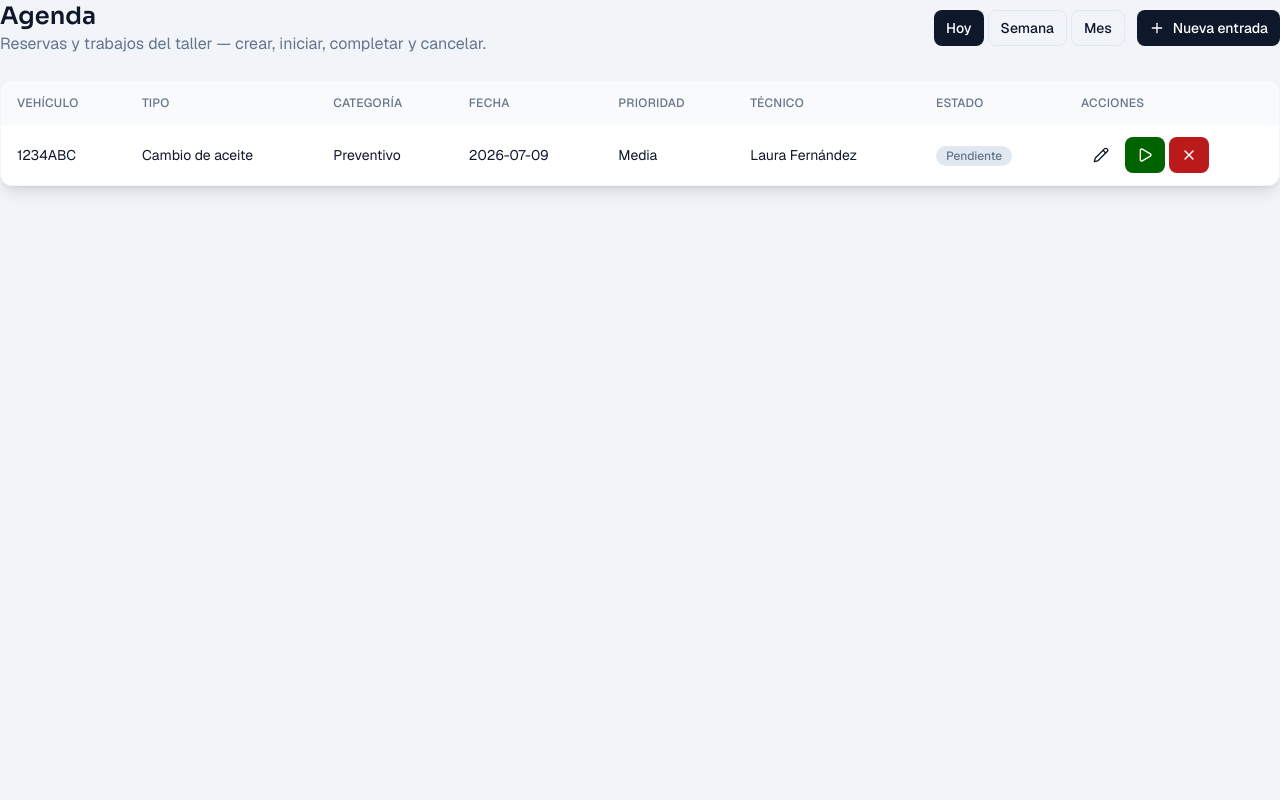
Test: Workshop (Agenda) › does not show the category selector in edit mode
Click the button named "editar entrada": (1101, 155) x1=1081 y1=137 x2=1121 y2=173
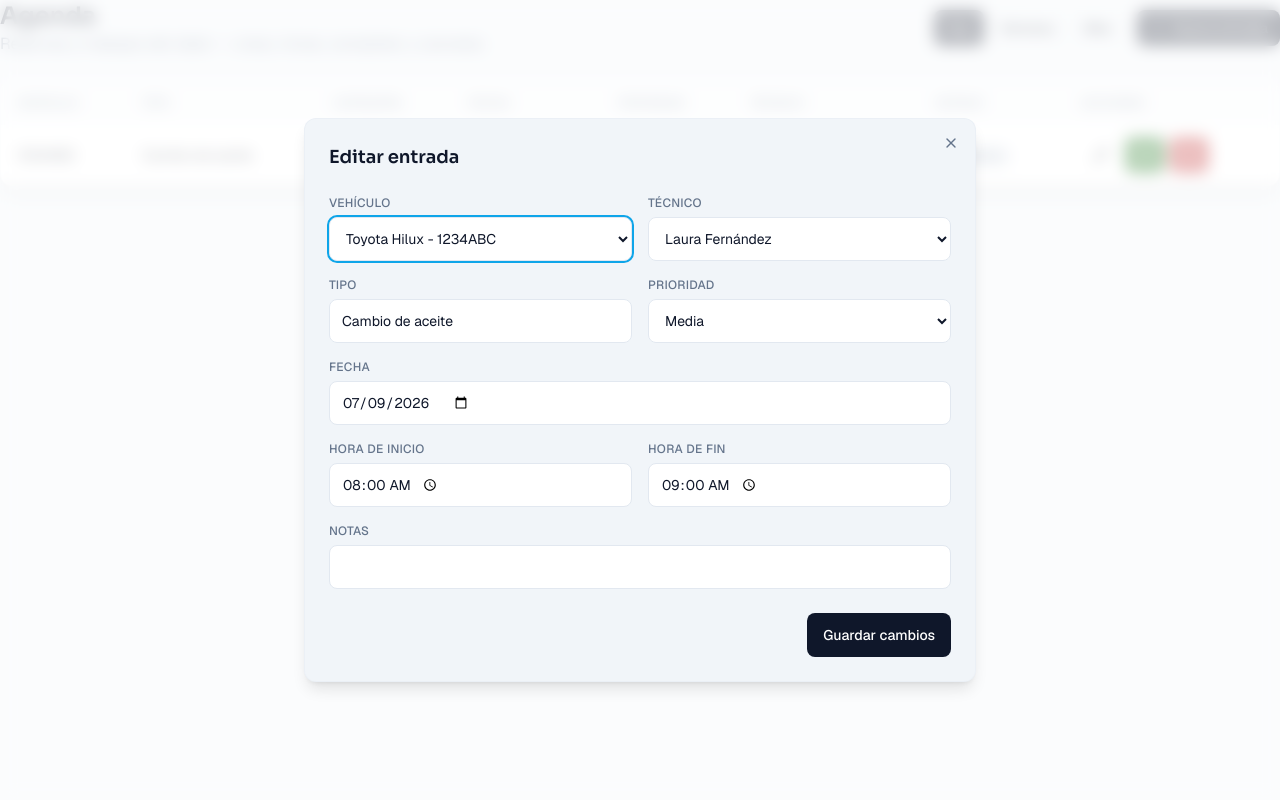
Expected: the heading "Editar entrada" is shown, x1=329 y1=146 x2=459 y2=168
